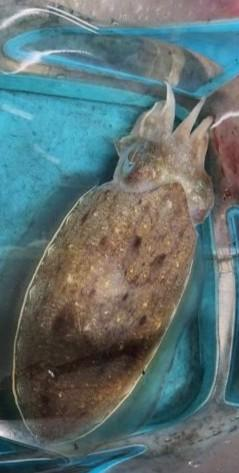Cephalopod: (0, 84, 217, 451)
